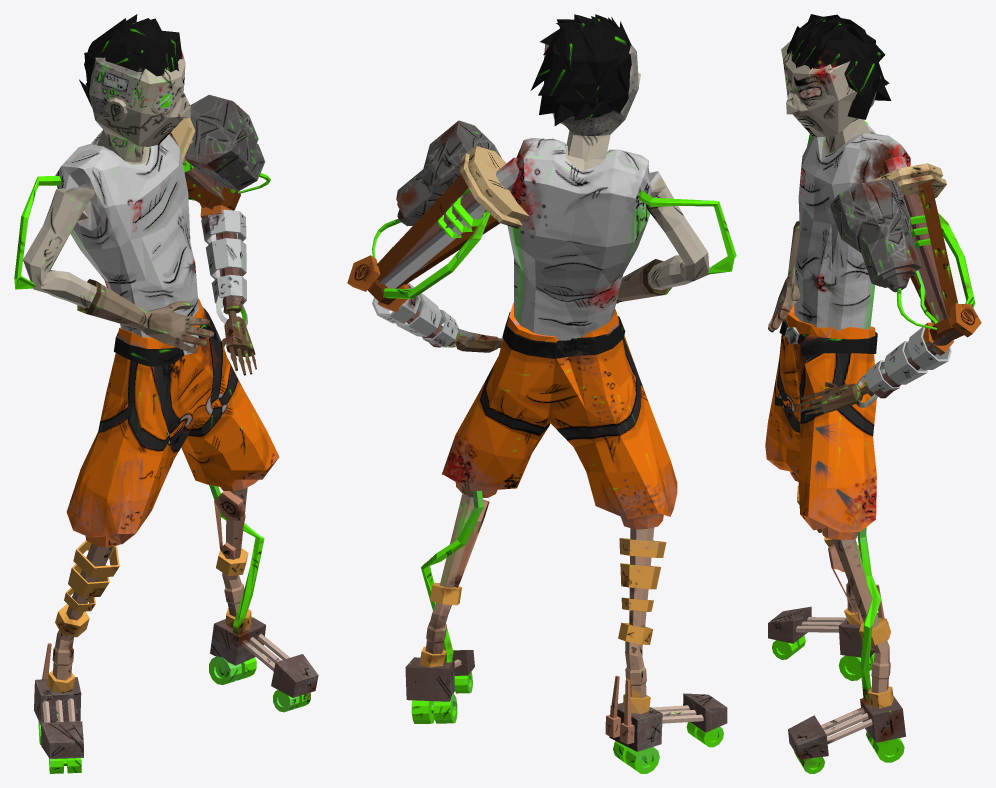
The model's file is CyborgFINALAnimation_000078.obj.
3 renders of one model, left to right at view 1: azimuth 30°, elevation 25°; view 2: azimuth 150°, elevation 25°; view 3: azimuth 270°, elevation 25°, orthographic. The views are drawn at different scales.
Parts seen in each view (by area): view 1: CyborgMesh_Cube.002; view 2: CyborgMesh_Cube.002; view 3: CyborgMesh_Cube.002.
Part boxes in pixels (x1=…): CyborgMesh_Cube.002: x1=14, y1=14, x2=318, y2=773; CyborgMesh_Cube.002: x1=347, y1=14, x2=736, y2=773; CyborgMesh_Cube.002: x1=765, y1=14, x2=981, y2=773.
Bounding box in the file's own units: 4.28 × 9.6 × 2.74.
